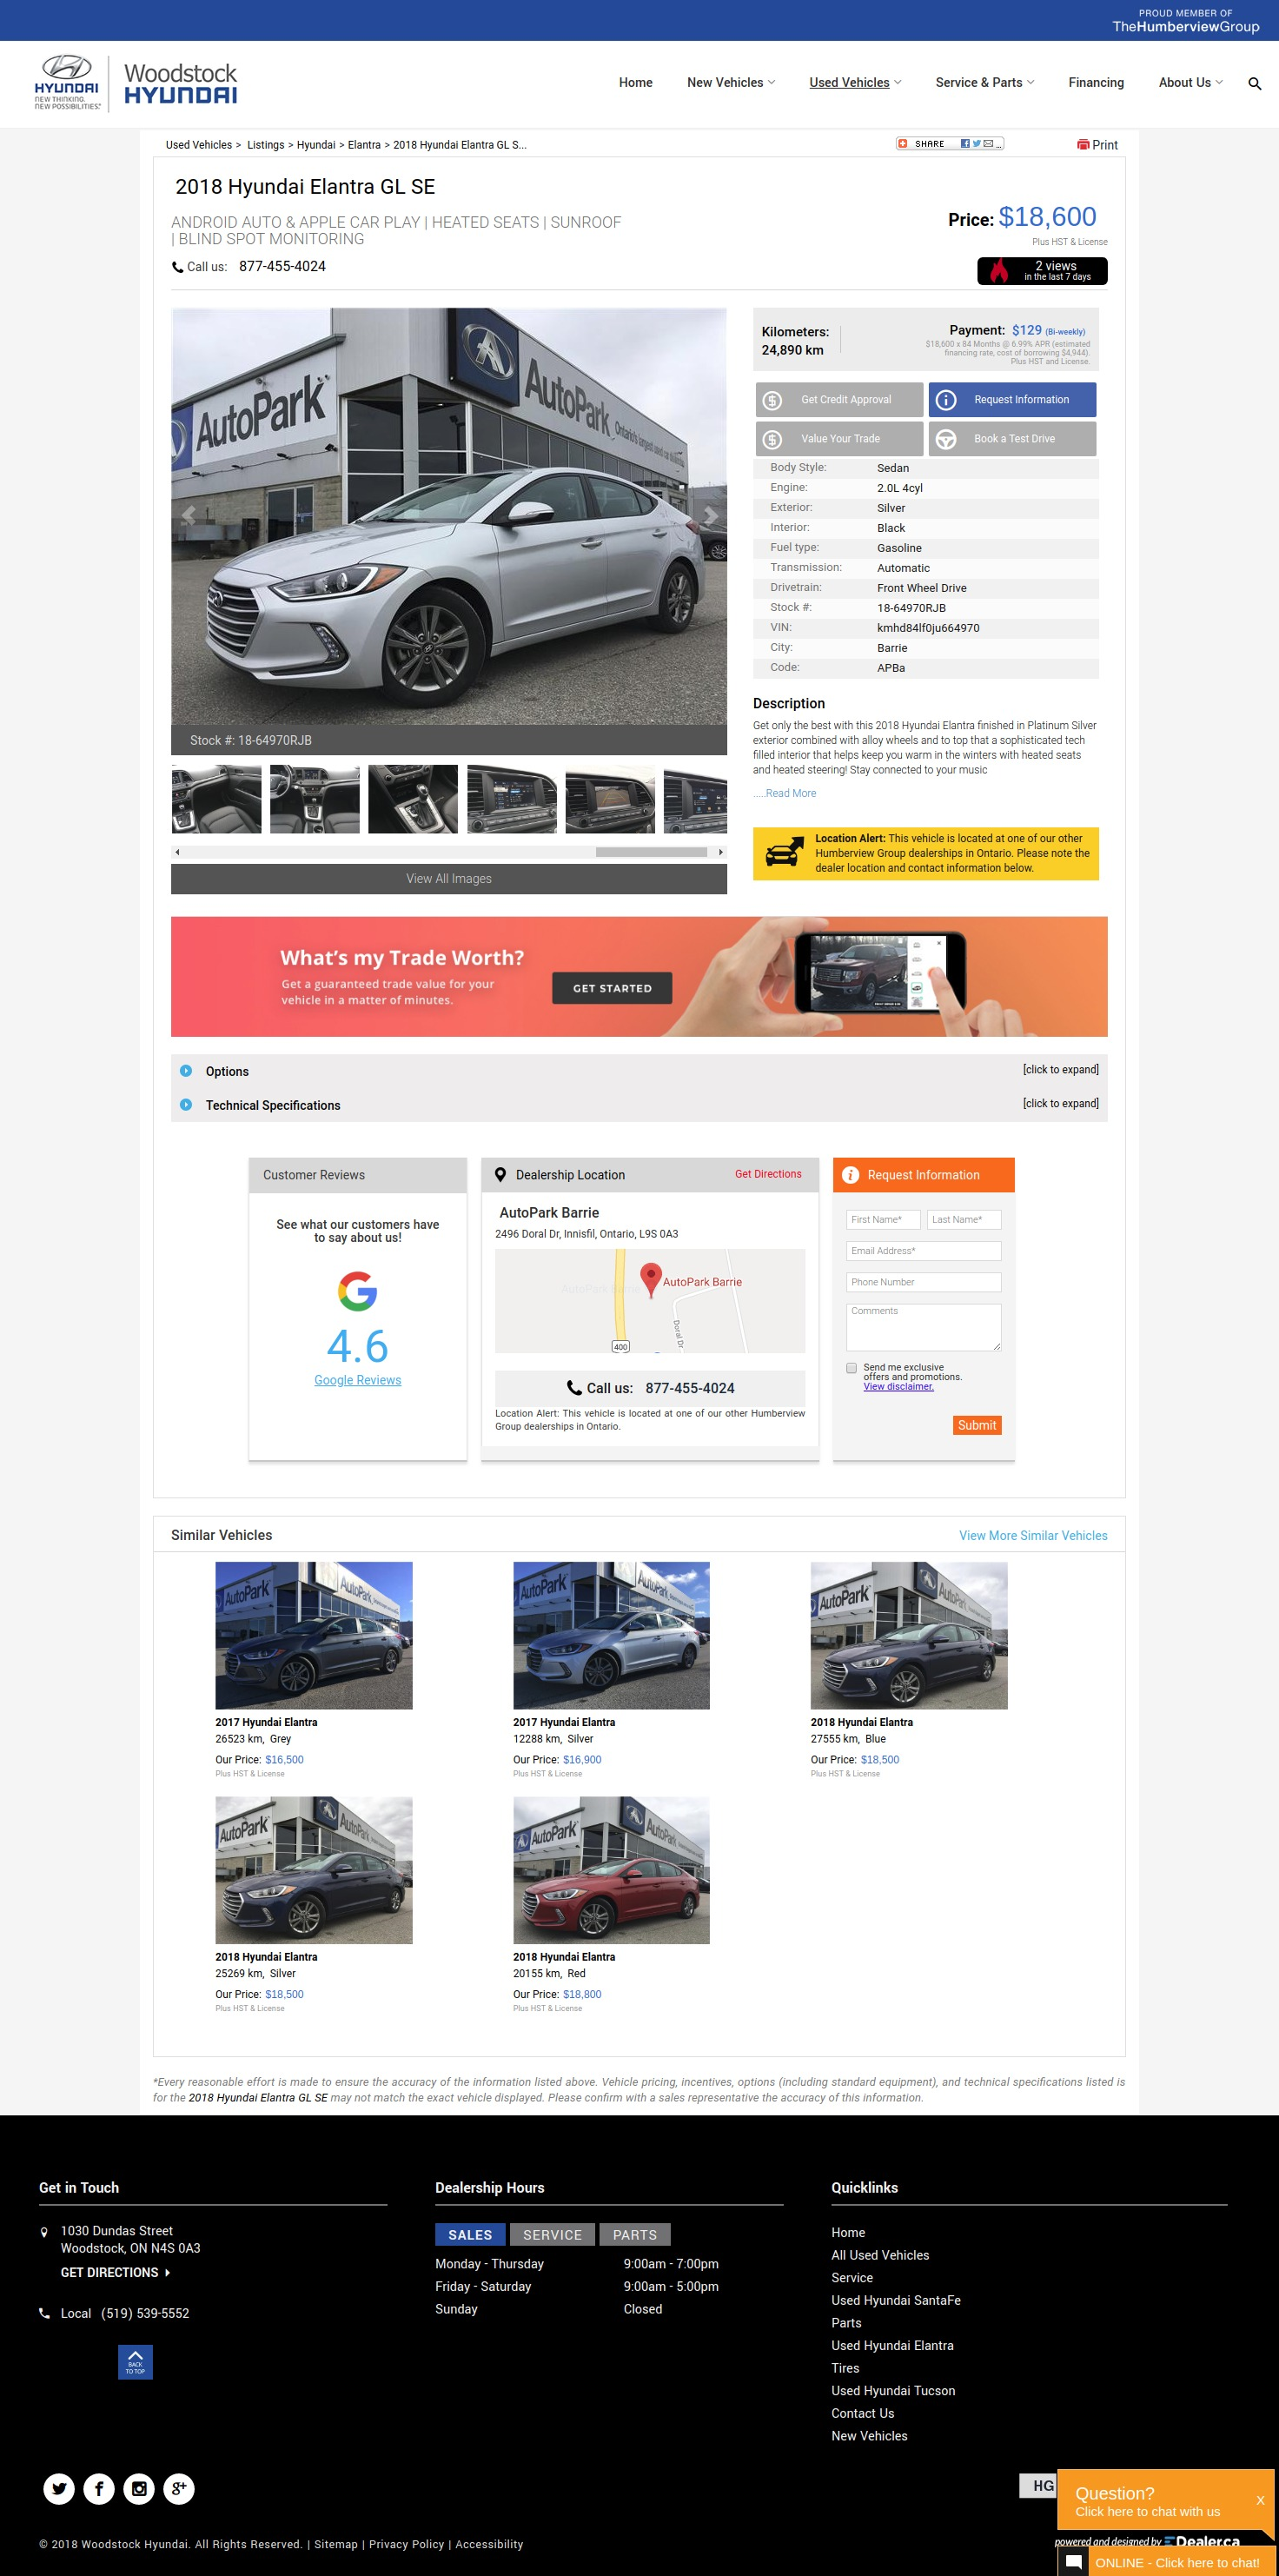car: (719, 849, 724, 856)
